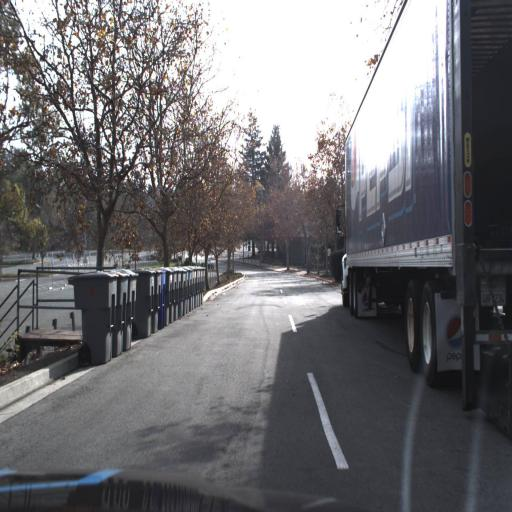truck: (326, 0, 511, 424)
